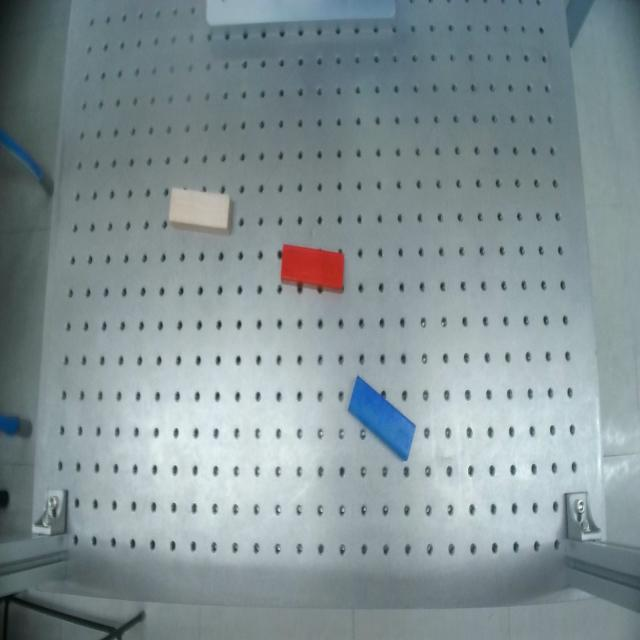blue: (335, 376, 429, 463)
red: (277, 244, 349, 294)
wood: (167, 188, 236, 236)
